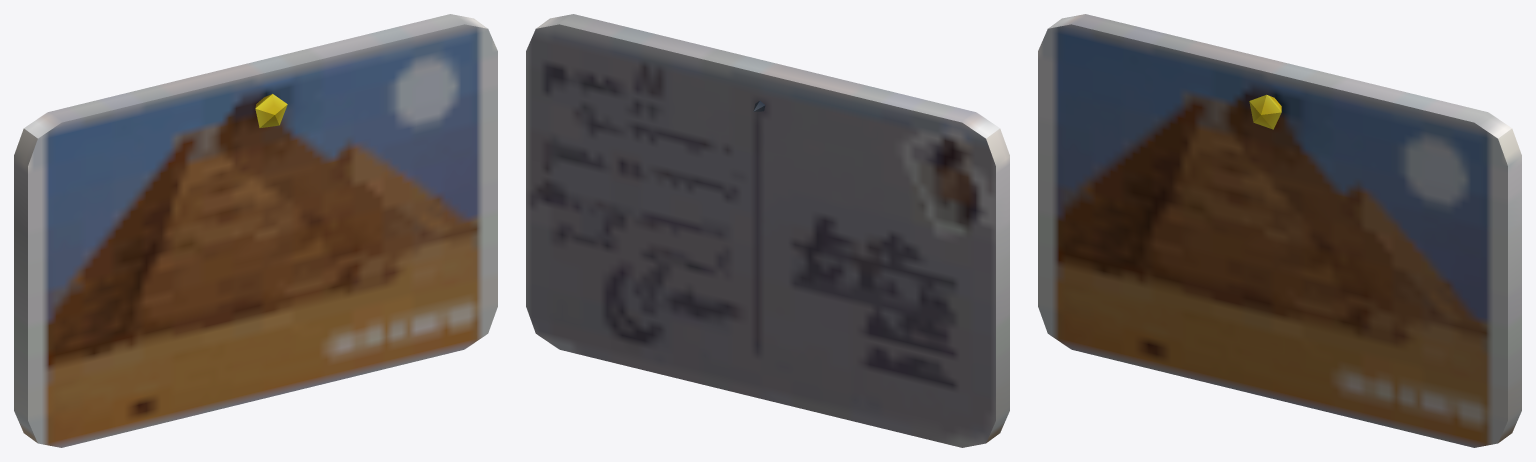
File: postal5.1.fbx
3 views of the same model, side by side, from view 1: azimuth 30°, elevation 25°; view 2: azimuth 150°, elevation 25°; view 3: azimuth 330°, elevation 25° (orthographic).
Parts seen in each view (by area): view 1: s4studio_mesh_0; view 2: s4studio_mesh_0; view 3: s4studio_mesh_0.
Part boxes in pixels (bbox=[...]): s4studio_mesh_0: bbox=[14, 14, 497, 447]; s4studio_mesh_0: bbox=[526, 14, 1009, 447]; s4studio_mesh_0: bbox=[1038, 14, 1521, 447].
Bounding box in the file's own units: 24.03 × 15.9 × 2.99.
1 material, 1 textured.
